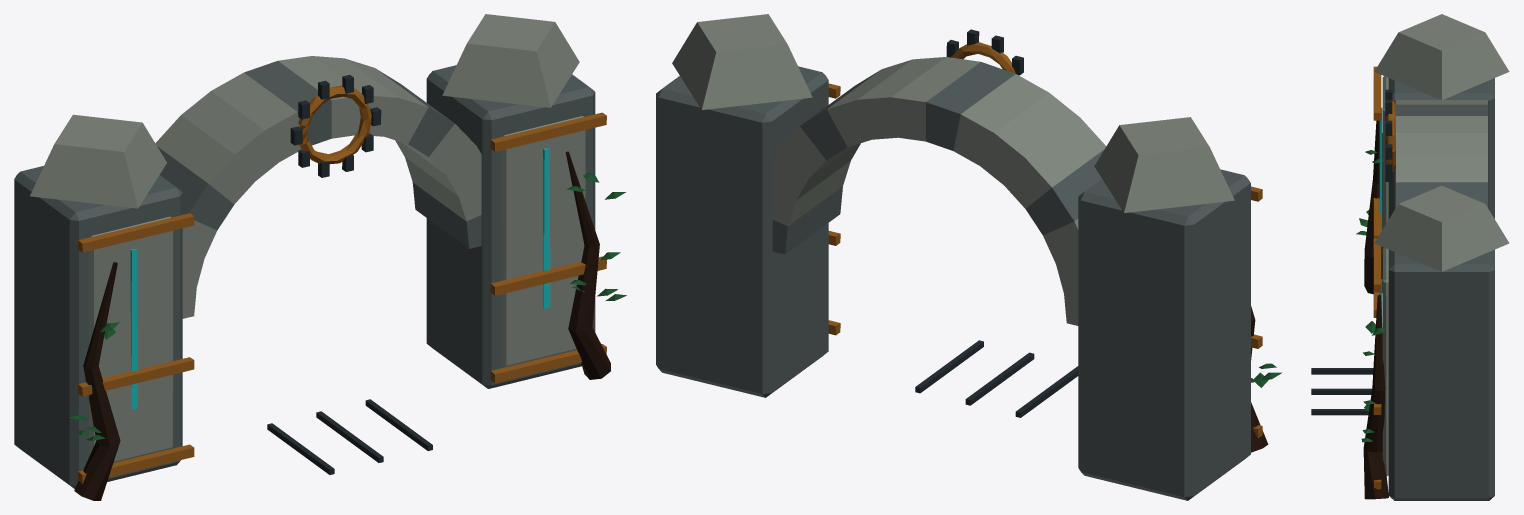
The model's file is Entrada_estacao_invadida_LOD1.fbx.
3 views of the same model, side by side, from view 1: azimuth 30°, elevation 25°; view 2: azimuth 150°, elevation 25°; view 3: azimuth 270°, elevation 25° (orthographic). The views are drawn at different scales.
Parts seen in each view (by area): view 1: Entrada_estacao_invadida_LOD1; view 2: Entrada_estacao_invadida_LOD1; view 3: Entrada_estacao_invadida_LOD1.
Part boxes in pixels (x1,y1,x2,y2): Entrada_estacao_invadida_LOD1: [14, 14, 626, 500]; Entrada_estacao_invadida_LOD1: [656, 14, 1282, 500]; Entrada_estacao_invadida_LOD1: [1311, 14, 1509, 500].
Size of the model in its own units: 1127 by 686 by 410.
Materials: 1 (1 with a texture image).
